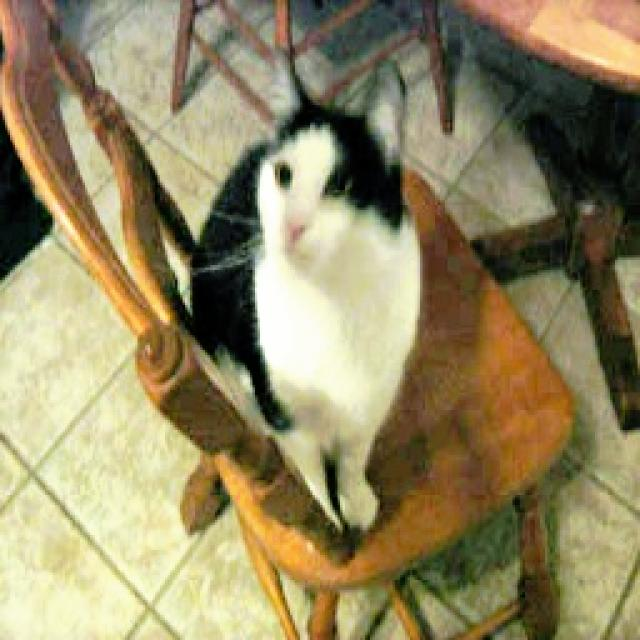cat: (161, 52, 445, 559)
